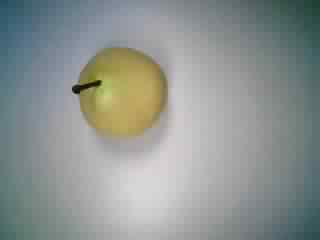pear: (66, 41, 182, 144)
